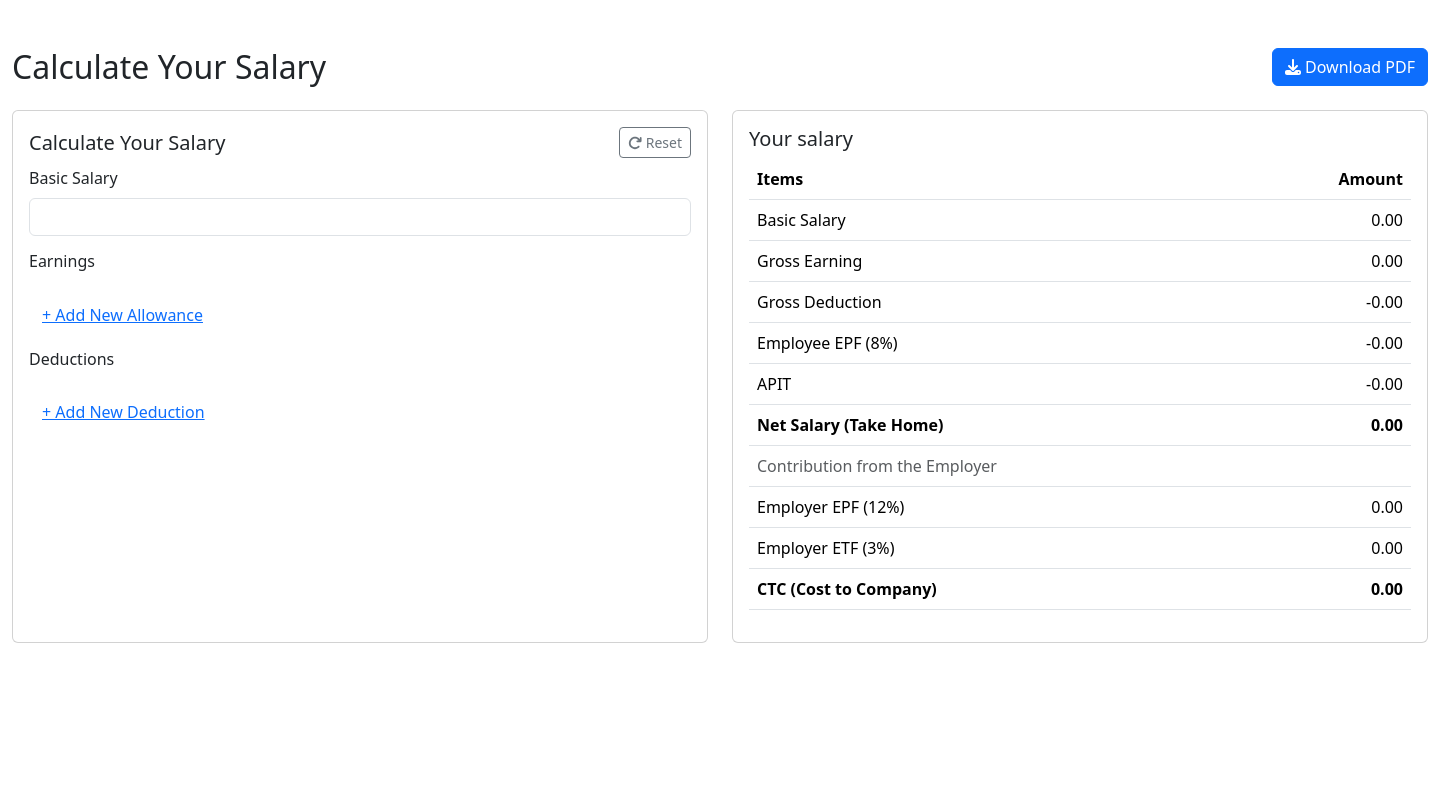
App › adds a new deduction item
Step 1. Click the button "+ Add New Deduction" → click(123, 412), box [29,393,691,431]
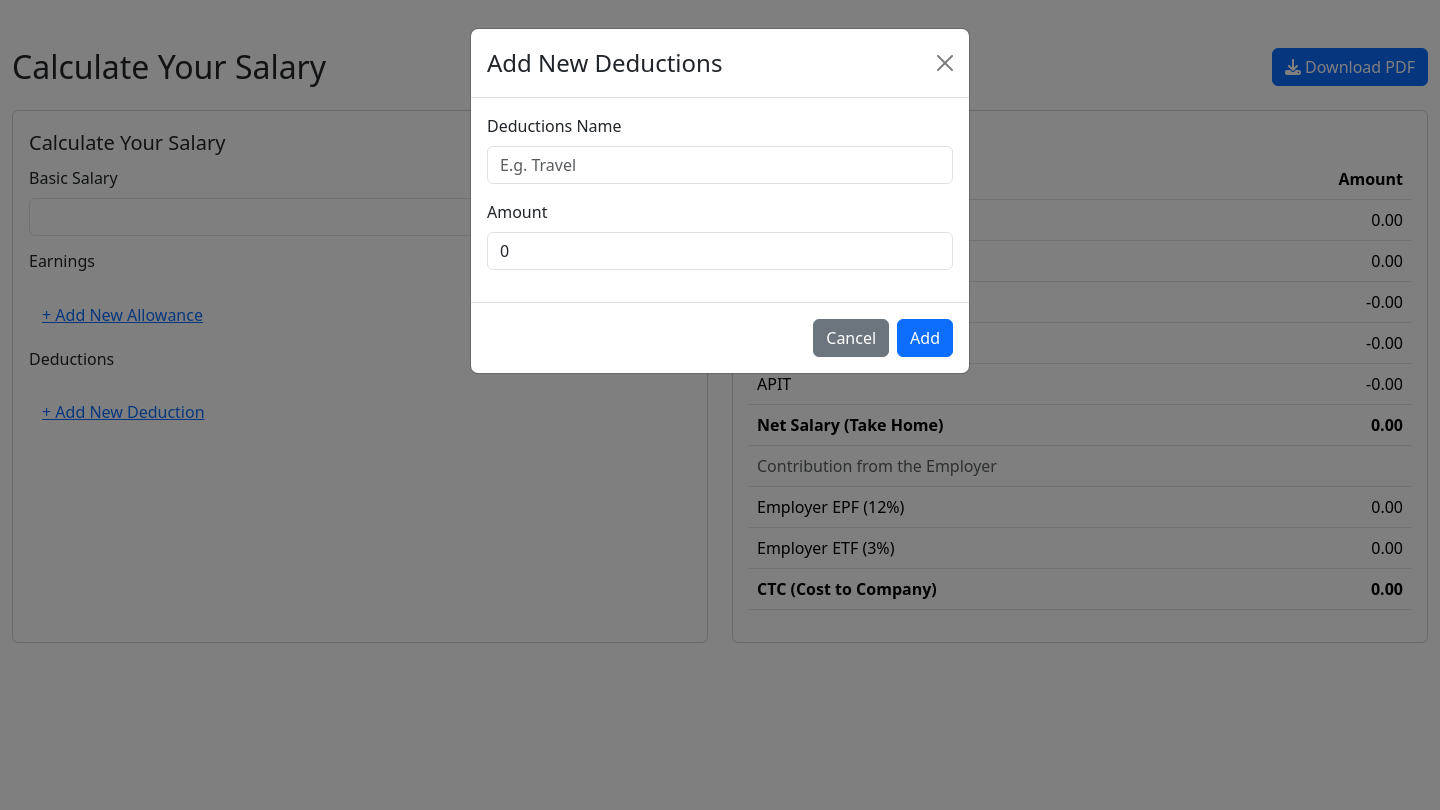
Expected: the text "Add New Deductions" is shown, [487,45,722,81]
Step 2. Type "Tax" into the field with placeholder "E.g. Travel" → (720, 165), box [487,146,953,184]
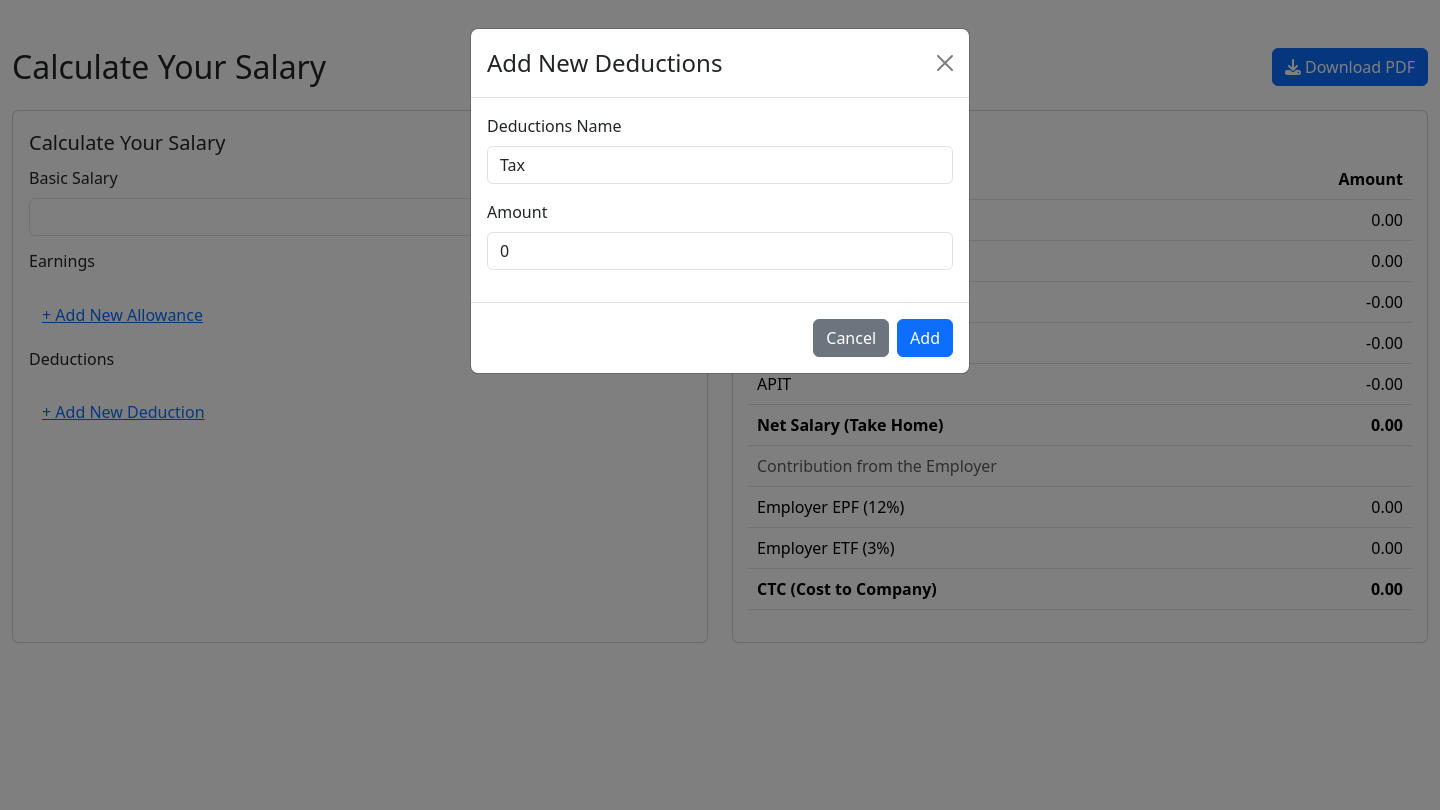
Step 3. Replace the text in the number field with placeholder "E.g. 10000" with "2000" → (720, 251), box [487,232,953,270]
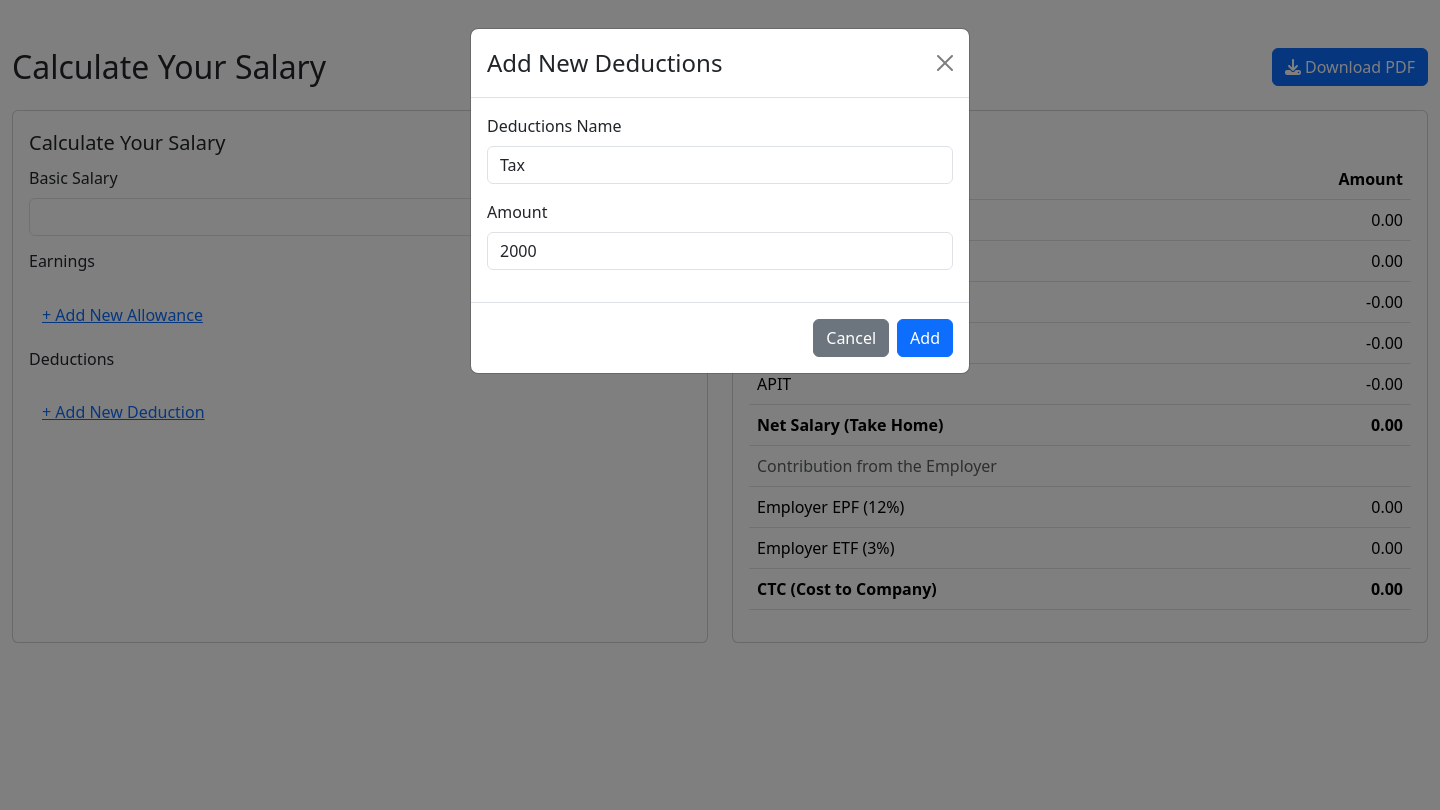
Step 4. Click the button "Add" → click(925, 338), box [897,319,953,357]
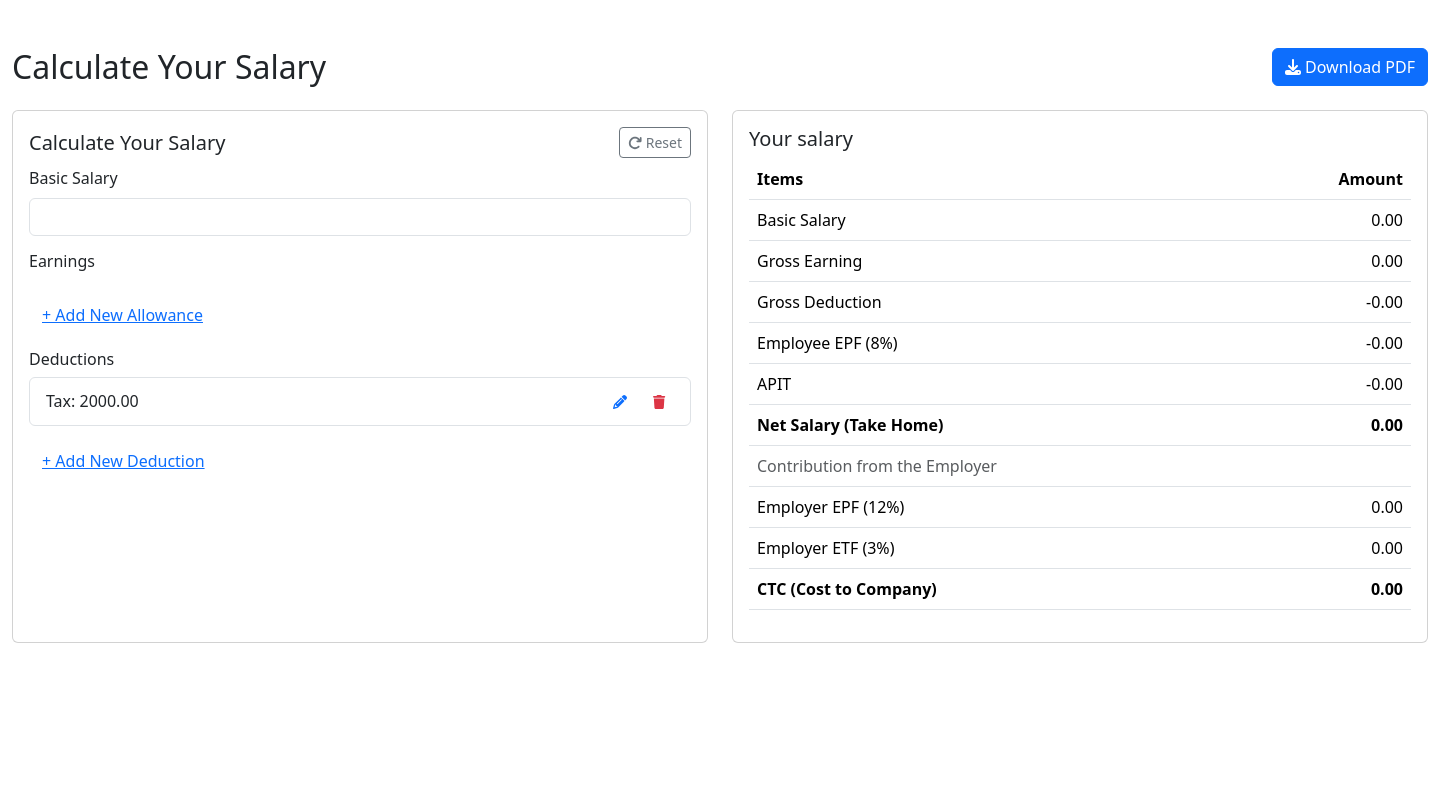
Expected: the text "Tax: 2000.00" is shown, [46,389,139,413]
